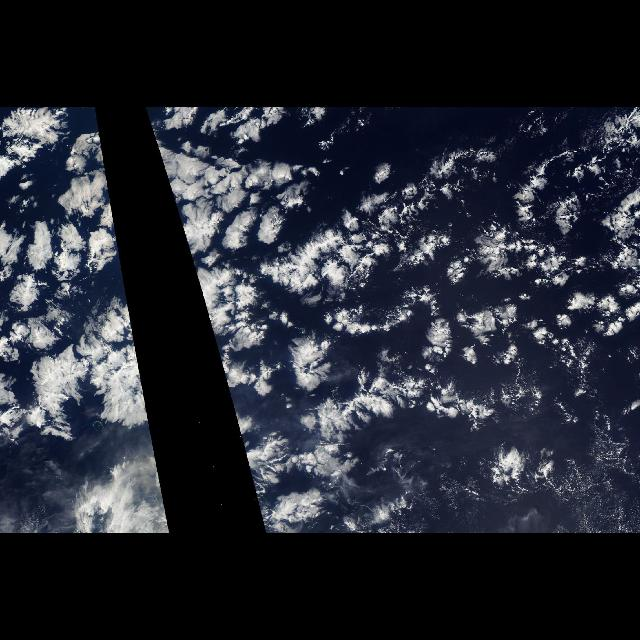Flower: (145, 110, 640, 530), (2, 109, 158, 473)
Sugar: (559, 448, 637, 530)
